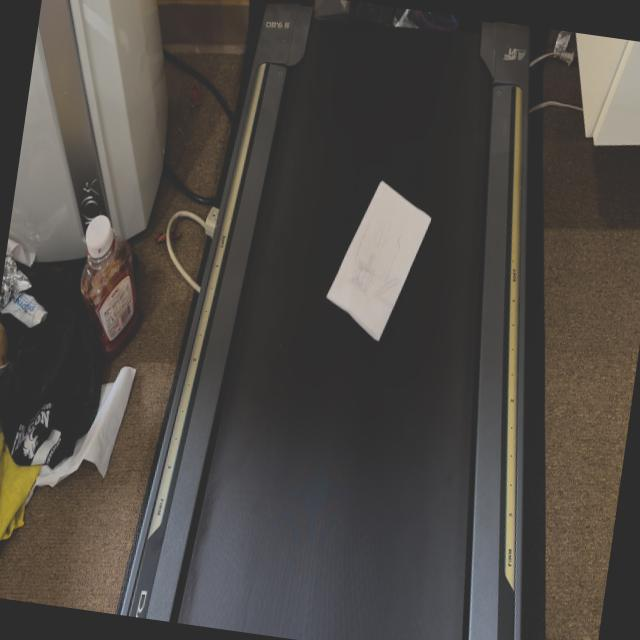Recycle: (320, 170, 437, 350)
